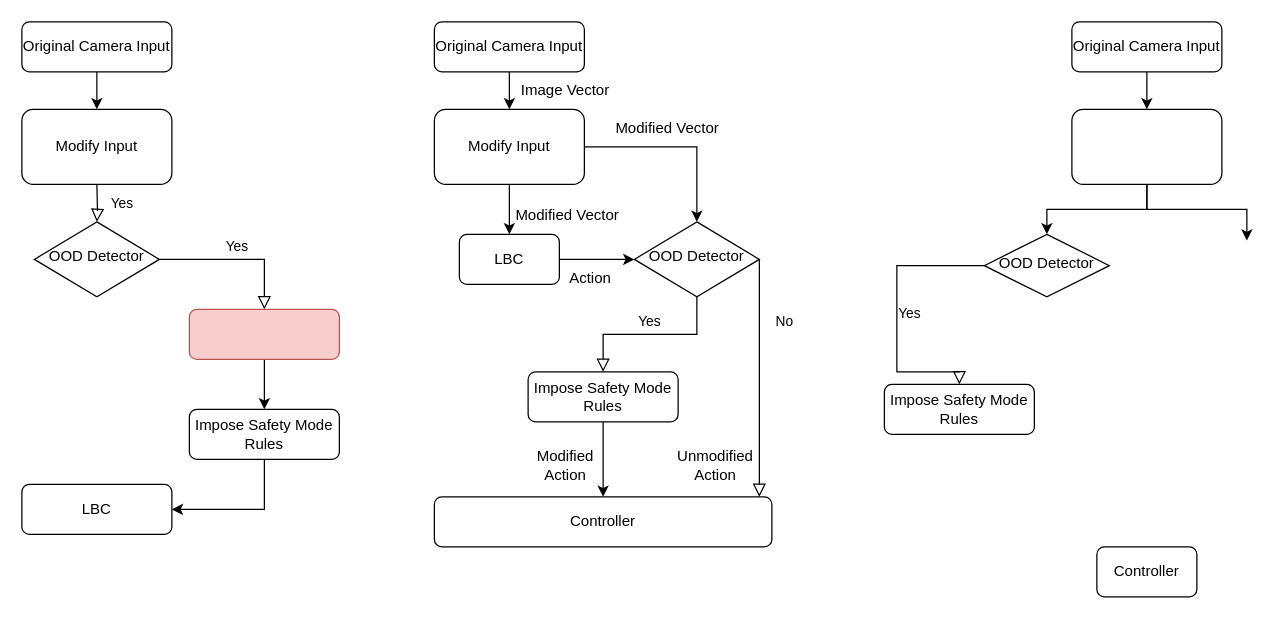
This 1279x619 diagram has some shape labels left out. The shapes that lost their labels are listed below. From the top down, each one's centre as x and y in pixels, then its label:
pixel 1146 146: Modify Camera Input
pixel 263 333: Improve Perception Module
